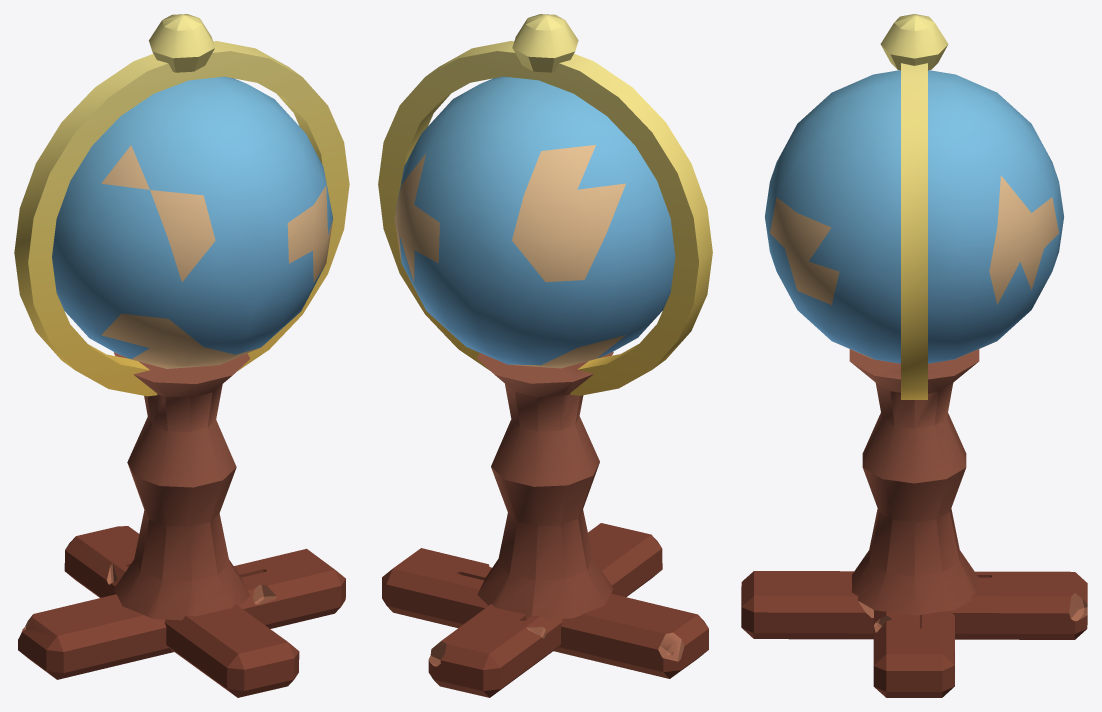
Rendered from globe.glb.
3 renders of one model, left to right at view 1: azimuth 30°, elevation 25°; view 2: azimuth 150°, elevation 25°; view 3: azimuth 270°, elevation 25°, orthographic.
Visible parts, largest first — view 1: globe; view 2: globe; view 3: globe.
Part boxes in pixels (bbox=[...]): globe: bbox=[14, 14, 349, 697]; globe: bbox=[378, 14, 712, 697]; globe: bbox=[741, 14, 1087, 697].
Size of the model in its own units: 1.08 by 1.99 by 1.02.
1 material, 1 textured.
